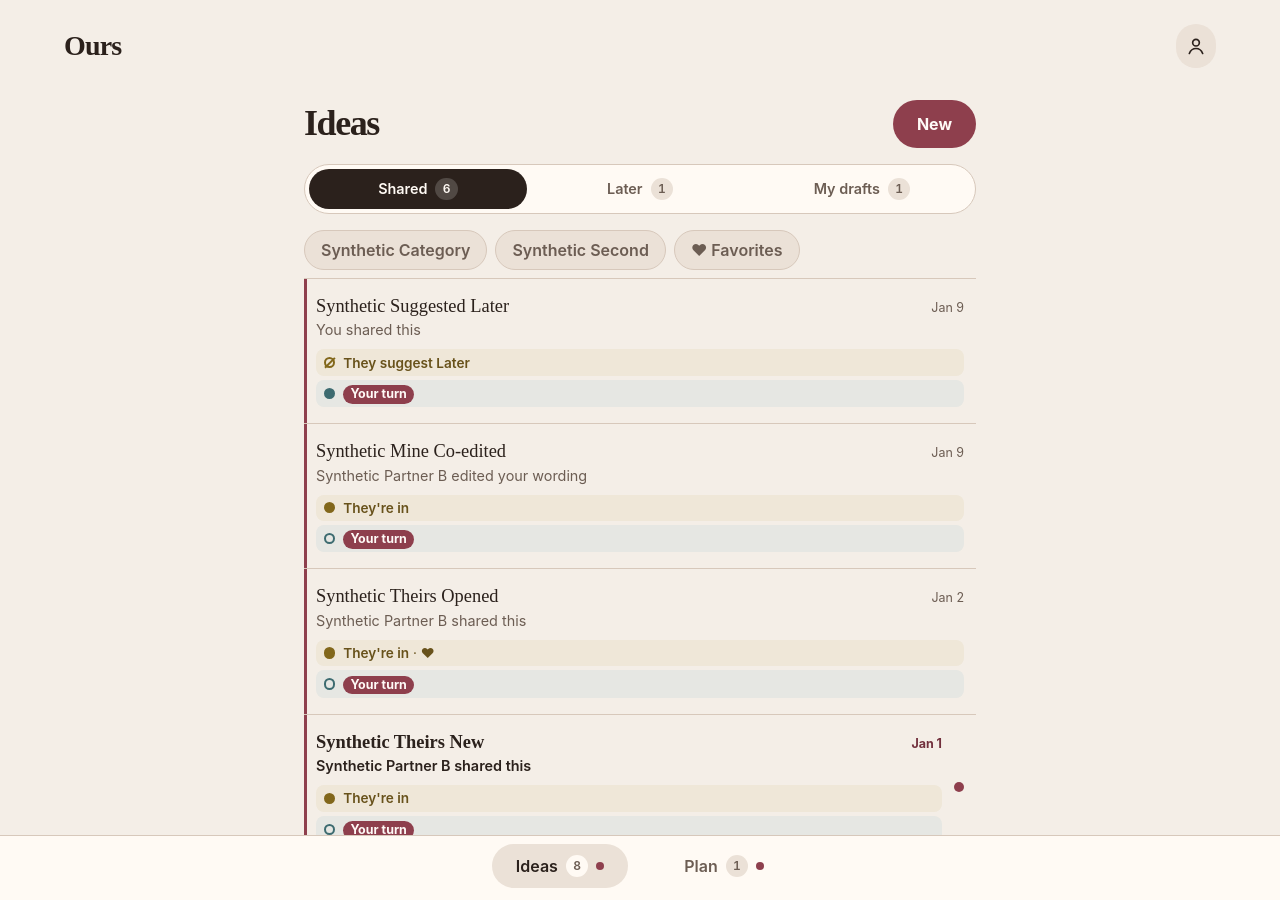
Test case: Ideas tab › offers ♥ Favorites once something is a favorite, a favorite of either of you
What coordinates should you click on to do the following:
click the button "♥ Favorites"
I would click on:
 (737, 250)
Its box is [674,230,800,270].
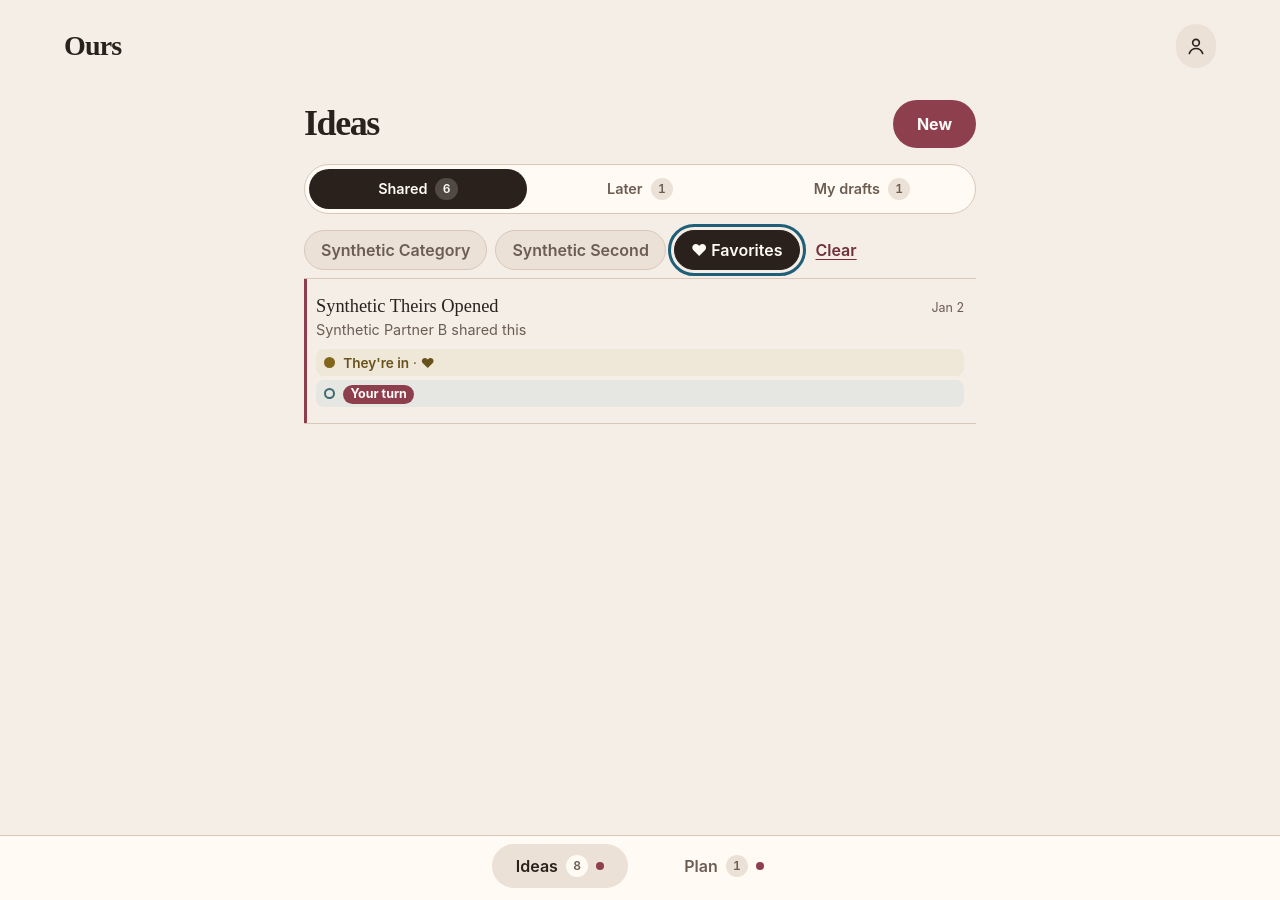
Expected: the button "♥ Favorites" is pressed, [674,230,800,270]
